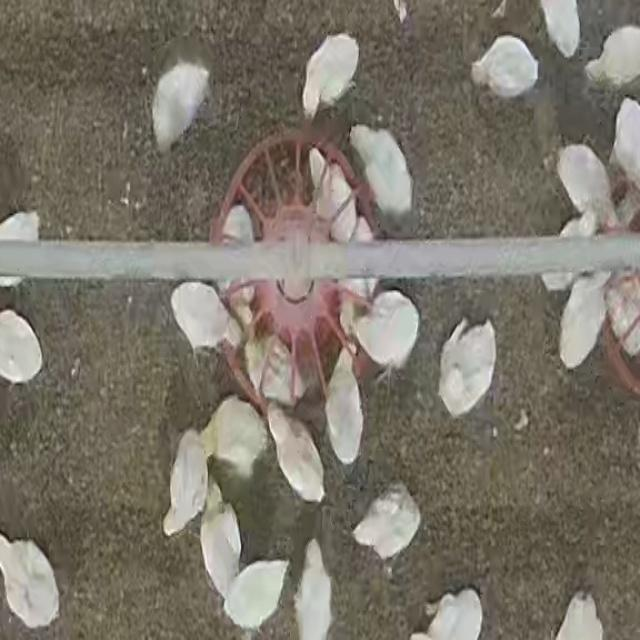chicken: (349, 290, 426, 382), (439, 312, 505, 419), (152, 39, 212, 152), (347, 125, 414, 221), (265, 404, 326, 505), (205, 396, 268, 492), (0, 530, 61, 628), (167, 283, 245, 356), (352, 483, 421, 563), (556, 144, 616, 232), (240, 331, 306, 411), (322, 348, 364, 471), (558, 275, 613, 368), (301, 33, 360, 119), (163, 426, 208, 536), (223, 558, 290, 631), (470, 34, 539, 100), (302, 147, 354, 232), (294, 538, 334, 640), (200, 502, 242, 598), (610, 98, 640, 204), (604, 270, 640, 356)
